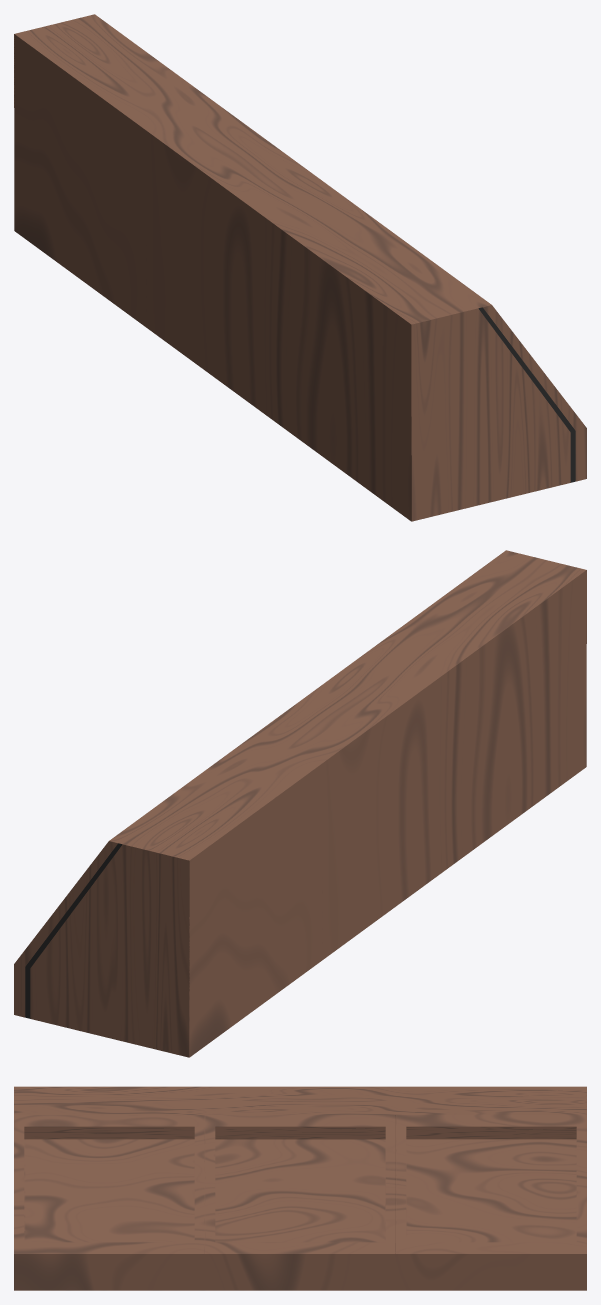
File: Bottom vegetable stack (1).fbx
3 renders of one model, top to bottom at view 1: azimuth 30°, elevation 25°; view 2: azimuth 150°, elevation 25°; view 3: azimuth 270°, elevation 25°, orthographic. The views are drawn at different scales.
Parts seen in each view (by area): view 1: Cube.002; view 2: Cube.002; view 3: Cube.002.
Boxes of the visible parts, box(x1,y1,x2,y2) form: Cube.002: box(14, 14, 586, 521); Cube.002: box(14, 550, 586, 1057); Cube.002: box(14, 1086, 586, 1290).
Bounding box in the file's own units: 147 × 158 × 577.
